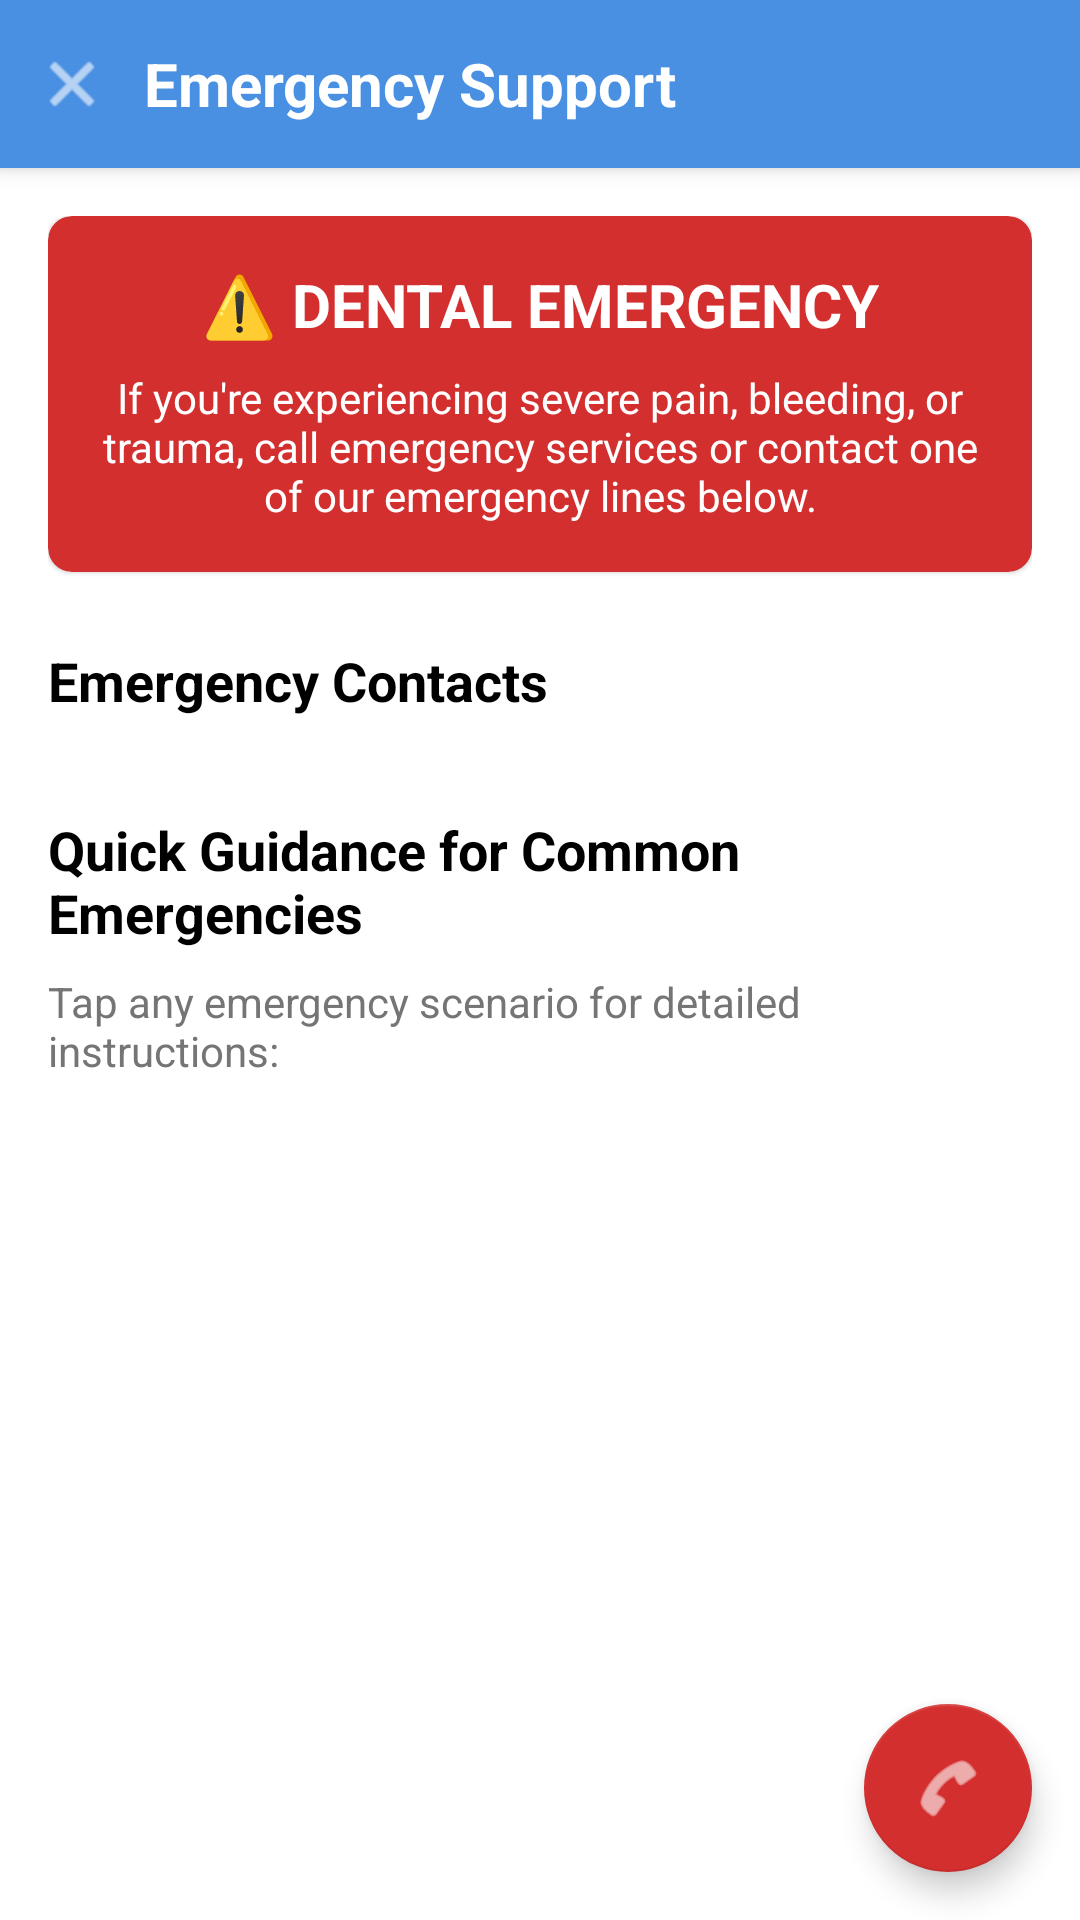

Point at icon controls on the screen. Image size 1080*1920, points as point (x, y).
Close: point (72, 84)
Emergency Call: point (948, 1788)
